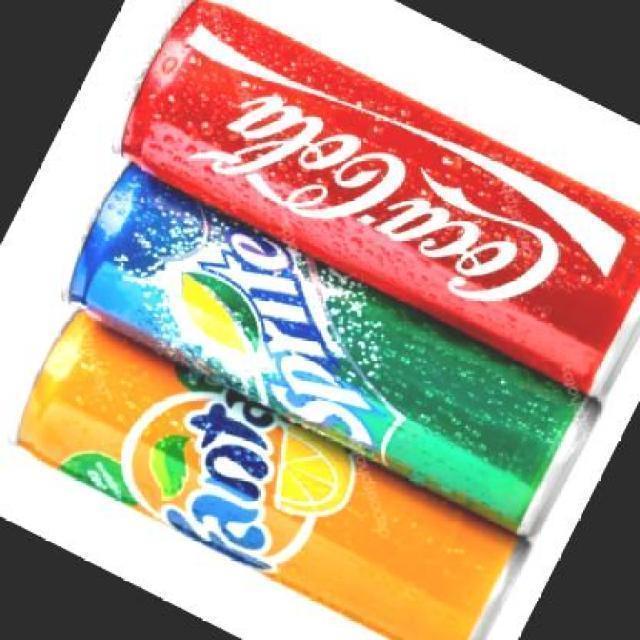metal-can: (94, 0, 640, 406), (43, 153, 612, 539), (0, 294, 542, 640)
